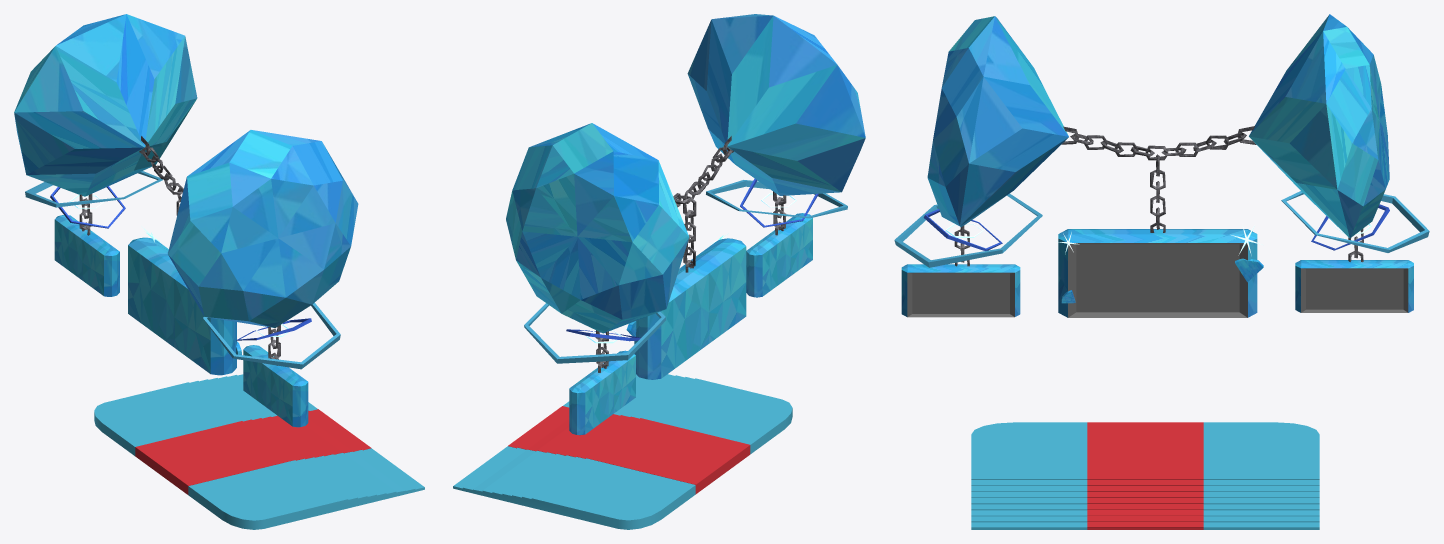
File: gem_boo.glb
3 views of the same model, side by side, from view 1: azimuth 30°, elevation 25°; view 2: azimuth 150°, elevation 25°; view 3: azimuth 270°, elevation 25° (orthographic). The views are drawn at different scales.
Parts seen in each view (by area): view 1: Main_Gems, Main_Gems.001, Base, Red_carpt, Outside_Sign, Outside_Sign.001, Outside_Sign.002, Chain_Links, Large_Floater, Large_Floater.001; view 2: Main_Gems.001, Main_Gems, Base, Red_carpt, Outside_Sign, Outside_Sign.002, Outside_Sign.001, Chain_Links, Large_Floater.001, Large_Floater; view 3: Base, Main_Gems.001, Main_Gems, Insde_Sign, Red_carpt, Insde_Sign.002, Insde_Sign.001, Outside_Sign, Chain_Links, Outside_Sign.002, Outside_Sign.001, Large_Floater (+1 smaller).
Part boxes in pixels (x1,y1,x2,y2): Main_Gems: [168, 130, 358, 327]; Main_Gems.001: [14, 14, 197, 196]; Base: [94, 374, 424, 529]; Red_carpt: [135, 409, 371, 494]; Outside_Sign: [128, 237, 236, 375]; Outside_Sign.001: [54, 215, 119, 296]; Outside_Sign.002: [243, 345, 308, 427]; Chain_Links: [79, 136, 280, 365]; Large_Floater: [203, 302, 340, 369]; Large_Floater.001: [25, 171, 162, 207]; Main_Gems.001: [506, 123, 689, 333]; Main_Gems: [687, 14, 865, 195]; Base: [453, 374, 792, 529]; Red_carpt: [508, 406, 750, 494]; Outside_Sign: [634, 238, 746, 379]; Outside_Sign.002: [746, 213, 812, 297]; Outside_Sign.001: [569, 350, 635, 435]; Chain_Links: [595, 136, 786, 372]; Large_Floater.001: [524, 303, 665, 363]; Large_Floater: [706, 180, 847, 218]; Base: [971, 422, 1319, 529]; Main_Gems.001: [1249, 14, 1389, 238]; Main_Gems: [927, 16, 1068, 227]; Insde_Sign: [1068, 243, 1247, 317]; Red_carpt: [1087, 422, 1203, 529]; Insde_Sign.002: [907, 272, 1014, 317]; Insde_Sign.001: [1301, 268, 1408, 312]; Outside_Sign: [1058, 229, 1257, 317]; Chain_Links: [954, 126, 1363, 266]; Outside_Sign.002: [901, 264, 1020, 316]; Outside_Sign.001: [1295, 260, 1413, 312]; Large_Floater: [894, 193, 1042, 267].
Size of the model in its own units: 0.6388 by 0.9575 by 1.09.
9 materials, 2 textured.
